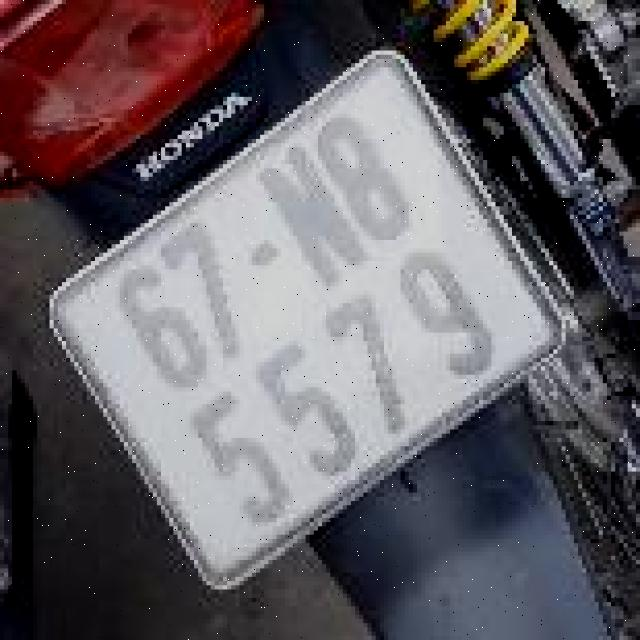5: (170, 376, 311, 547), (244, 328, 378, 498)
6: (99, 248, 227, 415)
7: (310, 281, 442, 453), (148, 208, 280, 380)
8: (294, 96, 436, 263)
9: (380, 237, 518, 396)
N: (250, 135, 384, 307)
